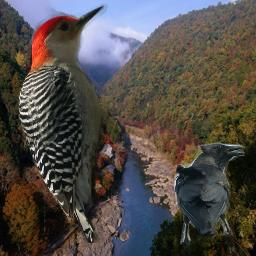Crow: (174, 140, 245, 254)
Woodpecker: (15, 4, 122, 243)
